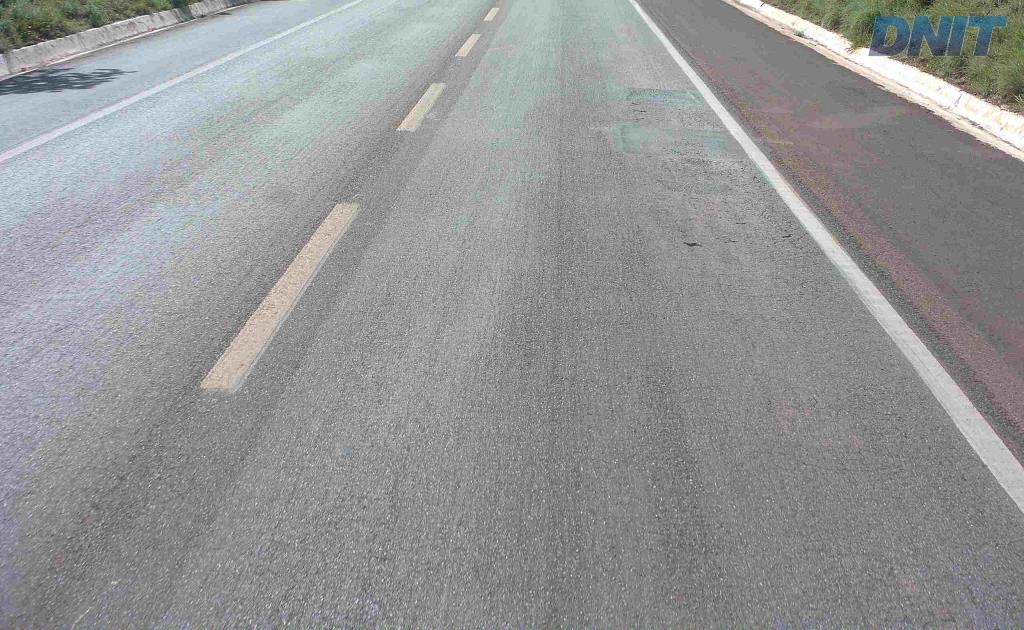pothole: (680, 238, 703, 249)
